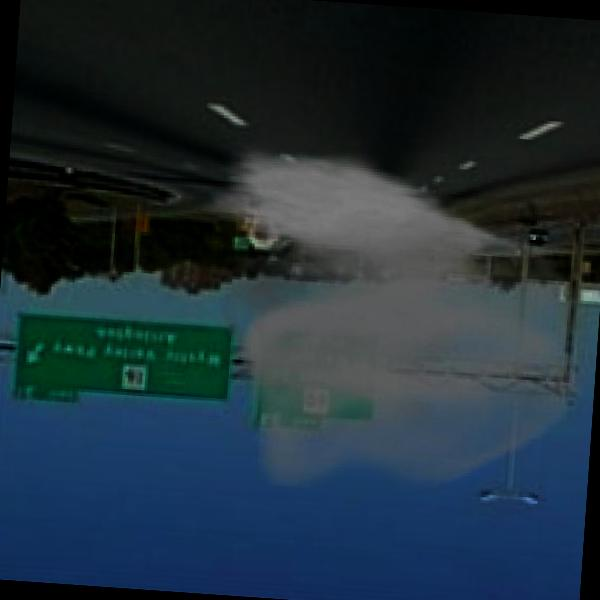smoke: (183, 140, 600, 510)
